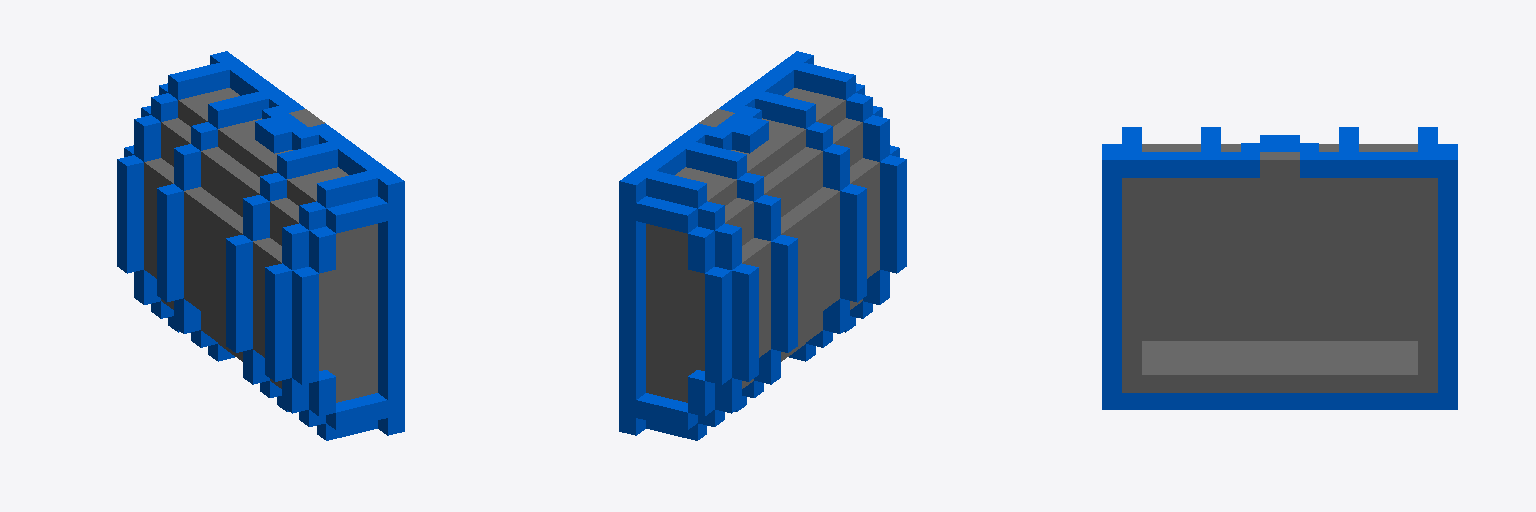
3 renders of one model, left to right at view 1: azimuth 30°, elevation 25°; view 2: azimuth 150°, elevation 25°; view 3: azimuth 270°, elevation 25°, orthographic.
Parts seen in each view (by area): view 1: Matrix_part_5; view 2: Matrix_part_5; view 3: Matrix_part_5.
Boxes of the visible parts, x1,y1,x2,y2 form: Matrix_part_5: [117, 51, 404, 440]; Matrix_part_5: [619, 51, 906, 440]; Matrix_part_5: [1102, 127, 1457, 409].
Size of the model in its own units: 7 by 14 by 18.
1 materials, 1 textured.